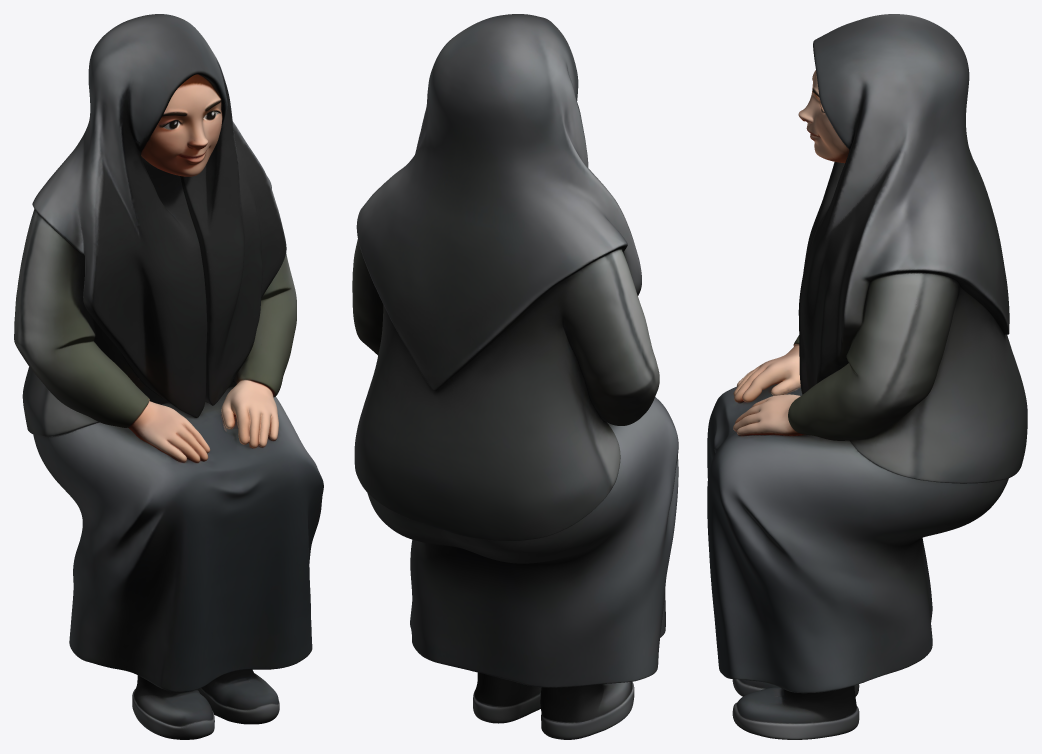
The model's file is ChelsaUIUX.fbx.
3 renders of one model, left to right at view 1: azimuth 30°, elevation 25°; view 2: azimuth 150°, elevation 25°; view 3: azimuth 270°, elevation 25°, orthographic. The views are drawn at different scales.
Parts seen in each view (by area): view 1: tripo_node_154884ff; view 2: tripo_node_154884ff; view 3: tripo_node_154884ff.
Part boxes in pixels (x1,y1,x2,y2): tripo_node_154884ff: [14, 14, 323, 739]; tripo_node_154884ff: [352, 14, 678, 739]; tripo_node_154884ff: [707, 14, 1027, 739].
Size of the model in its own units: 0.4236 by 1 by 0.4202.
